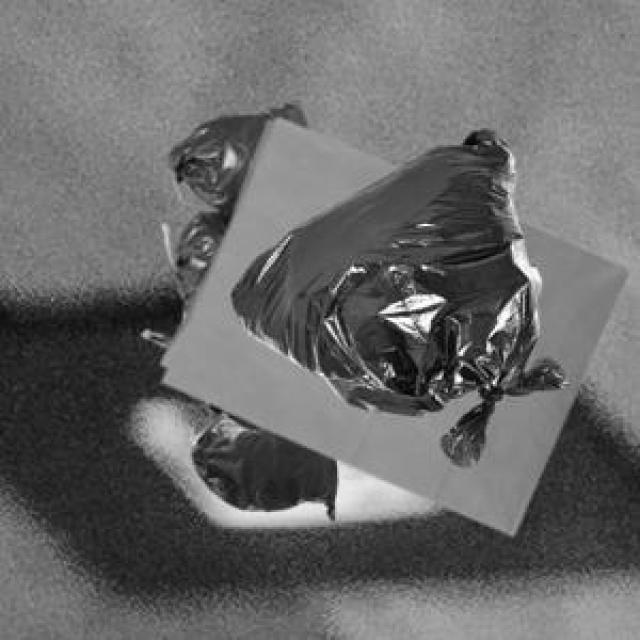miscellaneous trash: (228, 126, 563, 463), (159, 96, 333, 516)
paper: (158, 115, 625, 531)
